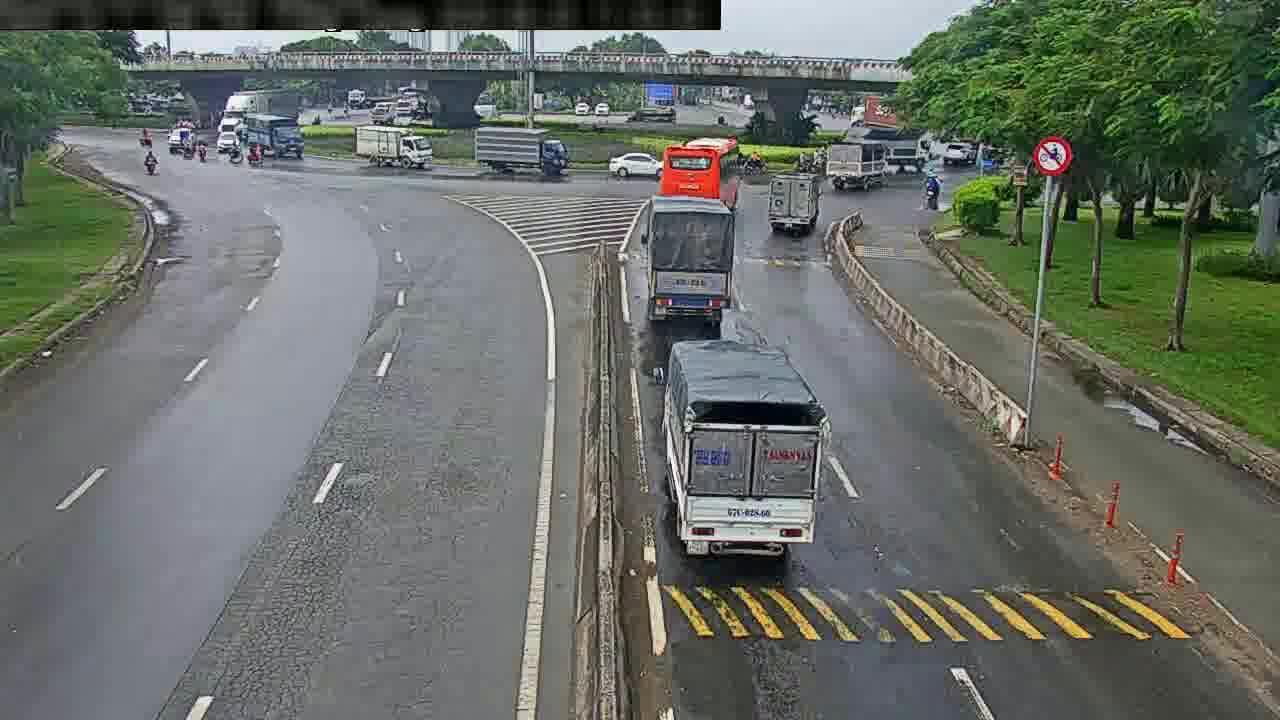8: (652, 327, 831, 560), (645, 192, 737, 326), (470, 124, 566, 174), (353, 120, 437, 167), (767, 170, 829, 232), (240, 112, 309, 159), (828, 140, 885, 190)
container: (605, 149, 667, 182), (141, 150, 160, 175)
motorbike: (919, 173, 940, 213)
